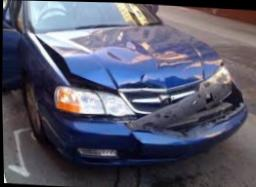Bonnet: (36, 19, 225, 117)
Bumper: (54, 85, 251, 168)
